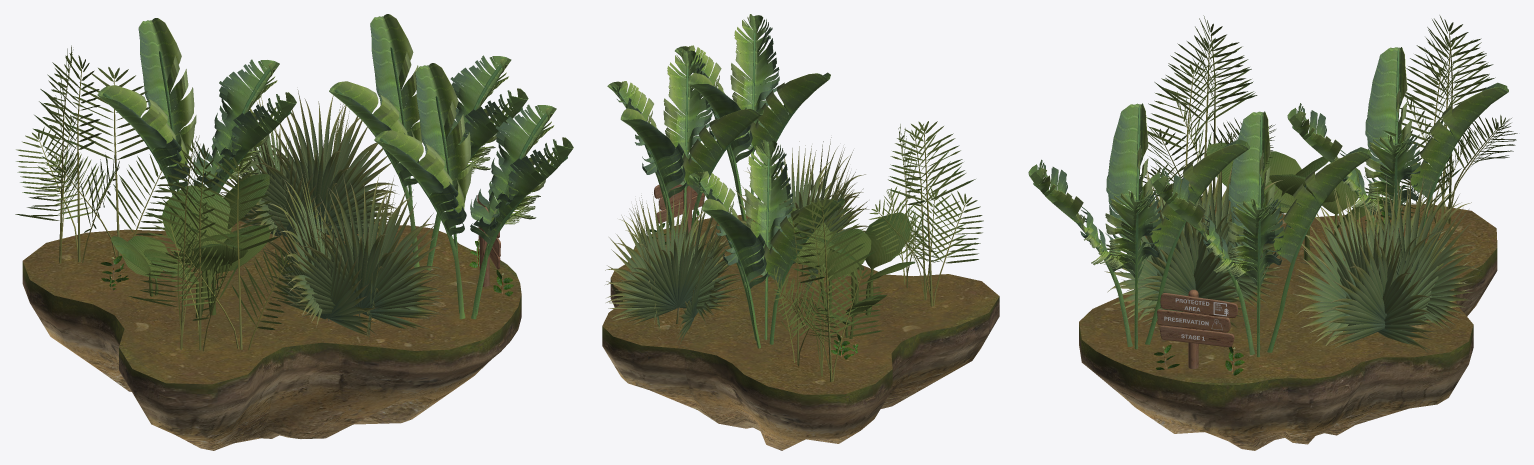
The model's file is pres-stg1.glb.
3 views of the same model, side by side, from view 1: azimuth 30°, elevation 25°; view 2: azimuth 150°, elevation 25°; view 3: azimuth 270°, elevation 25° (orthographic). The views are drawn at different scales.
Visible parts, largest first — view 1: ISOLOTTI_GRP_isola_02_terra_geo_ISOLOTTI_002_GRP, PLANTS_GRP_PLANT04_shapaja_J_geo.005, PLANTS_GRP_PLANT03_murumuru_J_GEO.004, PLANTS_GRP_PLANT03_murumuru_J_GEO.001, PLANTS_GRP_PLANT04_shapaja_J_geo.004, PLANTS_GRP_PLANT03_murumuru_J_GEO, PLANTS_GRP_PLANT01_euterpePrecatoria_J_geo.001, PLANTS_GRP_PLANT01_euterpePrecatoria_J_geo.004, PLANTS_GRP_PLANT02_iriarteaDeltoidea_J_geo, PLANTS_GRP_PLANT01_euterpePrecatoria_J_geo.005, PLANTS_GRP_PLANT01_euterpePrecatoria_J_geo.002, PLANTS_GRP_PLANT01_euterpePrecatoria_J_geo (+4 smaller); view 2: ISOLOTTI_GRP_isola_02_terra_geo_ISOLOTTI_002_GRP, PLANTS_GRP_PLANT04_shapaja_J_geo.004, PLANTS_GRP_PLANT03_murumuru_J_GEO.001, PLANTS_GRP_PLANT03_murumuru_J_GEO, PLANTS_GRP_PLANT03_murumuru_J_GEO.004, PLANTS_GRP_PLANT01_euterpePrecatoria_J_geo, PLANTS_GRP_PLANT01_euterpePrecatoria_J_geo.003, PLANTS_GRP_PLANT04_shapaja_J_geo.005, PLANTS_GRP_PLANT01_euterpePrecatoria_J_geo.002, PLANTS_GRP_PLANT02_iriarteaDeltoidea_J_geo.002, PLANTS_GRP_PLANT02_iriarteaDeltoidea_J_geo.003, PLANTS_GRP_PLANT01_euterpePrecatoria_J_geo.005 (+4 smaller); view 3: ISOLOTTI_GRP_isola_02_terra_geo_ISOLOTTI_002_GRP, PLANTS_GRP_PLANT04_shapaja_J_geo.004, PLANTS_GRP_PLANT03_murumuru_J_GEO, PLANTS_GRP_PLANT03_murumuru_J_GEO.004, PLANTS_GRP_PLANT03_murumuru_J_GEO.001, PLANTS_GRP_PLANT04_shapaja_J_geo.005, PLANTS_GRP_PLANT01_euterpePrecatoria_J_geo.002, PLANTS_GRP_PLANT01_euterpePrecatoria_J_geo.003, PLANTS_GRP_PLANT01_euterpePrecatoria_J_geo.005, PLANTS_GRP_PLANT01_euterpePrecatoria_J_geo, PLANTS_GRP_PLANT01_euterpePrecatoria_J_geo.001, PLANTS_GRP_PLANT01_euterpePrecatoria_J_geo.004 (+6 smaller).
Part boxes in pixels (x1,y1,x2,y2): ISOLOTTI_GRP_isola_02_terra_geo_ISOLOTTI_002_GRP: (22,209,521,450); PLANTS_GRP_PLANT04_shapaja_J_geo.005: (260,169,444,341); PLANTS_GRP_PLANT03_murumuru_J_GEO.004: (374,63,573,319); PLANTS_GRP_PLANT03_murumuru_J_GEO.001: (97,18,296,195); PLANTS_GRP_PLANT04_shapaja_J_geo.004: (220,89,399,242); PLANTS_GRP_PLANT03_murumuru_J_GEO: (329,14,528,270); PLANTS_GRP_PLANT01_euterpePrecatoria_J_geo.001: (165,157,294,350); PLANTS_GRP_PLANT01_euterpePrecatoria_J_geo.004: (44,67,177,257); PLANTS_GRP_PLANT02_iriarteaDeltoidea_J_geo: (161,185,269,315); PLANTS_GRP_PLANT01_euterpePrecatoria_J_geo.005: (16,53,119,262); PLANTS_GRP_PLANT01_euterpePrecatoria_J_geo.002: (146,141,235,351); PLANTS_GRP_PLANT01_euterpePrecatoria_J_geo: (128,135,208,349); ISOLOTTI_GRP_isola_02_terra_geo_ISOLOTTI_002_GRP: (602,215,999,450); PLANTS_GRP_PLANT04_shapaja_J_geo.004: (605,190,742,345); PLANTS_GRP_PLANT03_murumuru_J_GEO.001: (688,140,844,348); PLANTS_GRP_PLANT03_murumuru_J_GEO: (607,49,763,247); PLANTS_GRP_PLANT03_murumuru_J_GEO.004: (675,14,830,224); PLANTS_GRP_PLANT01_euterpePrecatoria_J_geo: (869,121,983,306); PLANTS_GRP_PLANT01_euterpePrecatoria_J_geo.003: (774,196,883,382); PLANTS_GRP_PLANT04_shapaja_J_geo.005: (735,137,869,293); PLANTS_GRP_PLANT01_euterpePrecatoria_J_geo.002: (894,124,975,300); PLANTS_GRP_PLANT02_iriarteaDeltoidea_J_geo.002: (775,208,871,321); PLANTS_GRP_PLANT02_iriarteaDeltoidea_J_geo.003: (865,212,915,315); PLANTS_GRP_PLANT01_euterpePrecatoria_J_geo.005: (799,202,866,376); ISOLOTTI_GRP_isola_02_terra_geo_ISOLOTTI_002_GRP: (1079,198,1497,450); PLANTS_GRP_PLANT04_shapaja_J_geo.004: (1293,172,1480,352); PLANTS_GRP_PLANT03_murumuru_J_GEO: (1150,111,1372,357); PLANTS_GRP_PLANT03_murumuru_J_GEO.004: (1028,103,1249,349); PLANTS_GRP_PLANT03_murumuru_J_GEO.001: (1287,47,1508,232); PLANTS_GRP_PLANT04_shapaja_J_geo.005: (1104,152,1285,327); PLANTS_GRP_PLANT01_euterpePrecatoria_J_geo.002: (1147,35,1275,196); PLANTS_GRP_PLANT01_euterpePrecatoria_J_geo.003: (1406,15,1517,224); PLANTS_GRP_PLANT01_euterpePrecatoria_J_geo.005: (1403,34,1511,229); PLANTS_GRP_PLANT01_euterpePrecatoria_J_geo: (1175,15,1274,212); PLANTS_GRP_PLANT01_euterpePrecatoria_J_geo.001: (1133,59,1234,213); PLANTS_GRP_PLANT01_euterpePrecatoria_J_geo.004: (1380,58,1472,245).
Size of the model in its own units: 2.92 by 2.38 by 3.06.
Materials: 7 (7 with a texture image).
